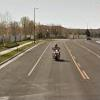Motorcycle: (47, 40, 63, 66)
